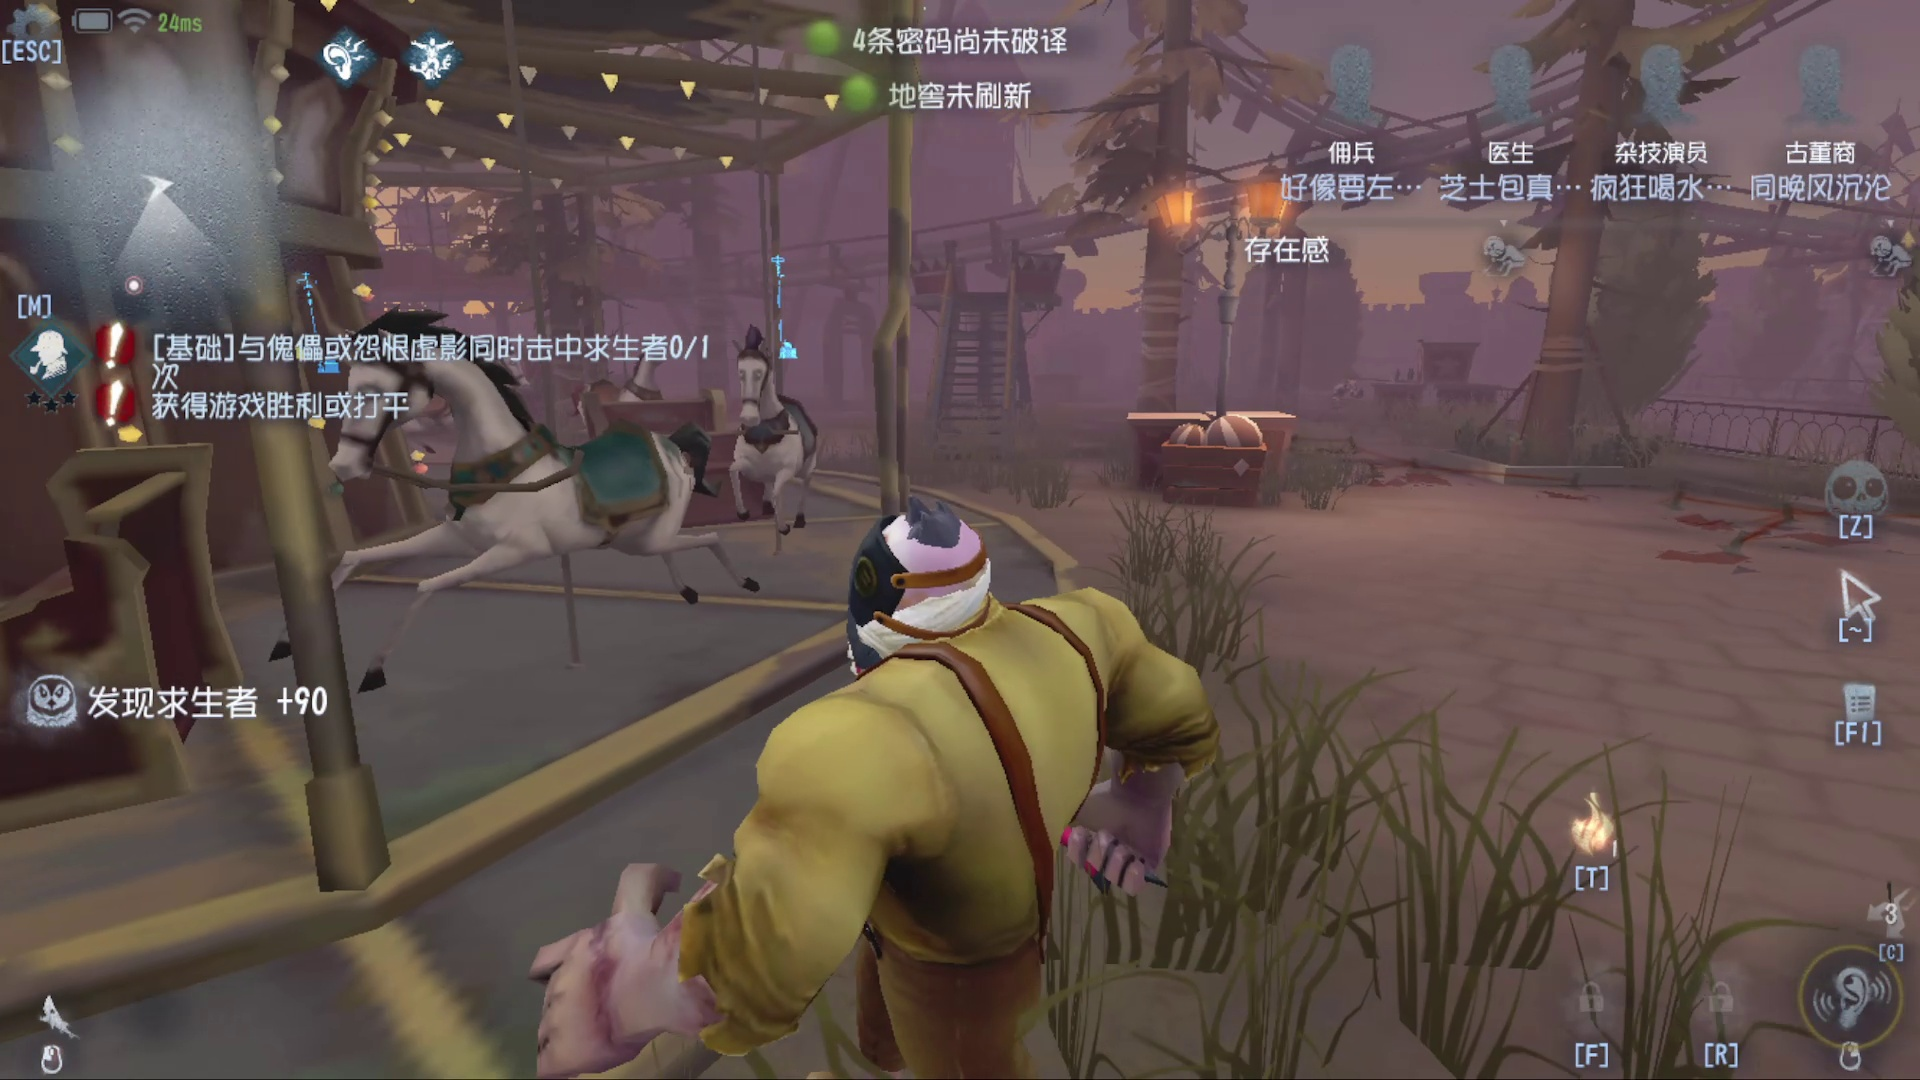密码机: (276, 262, 375, 392), (757, 243, 815, 375)
求生者: (1319, 359, 1371, 426)
脚印: (1631, 469, 1811, 588)
